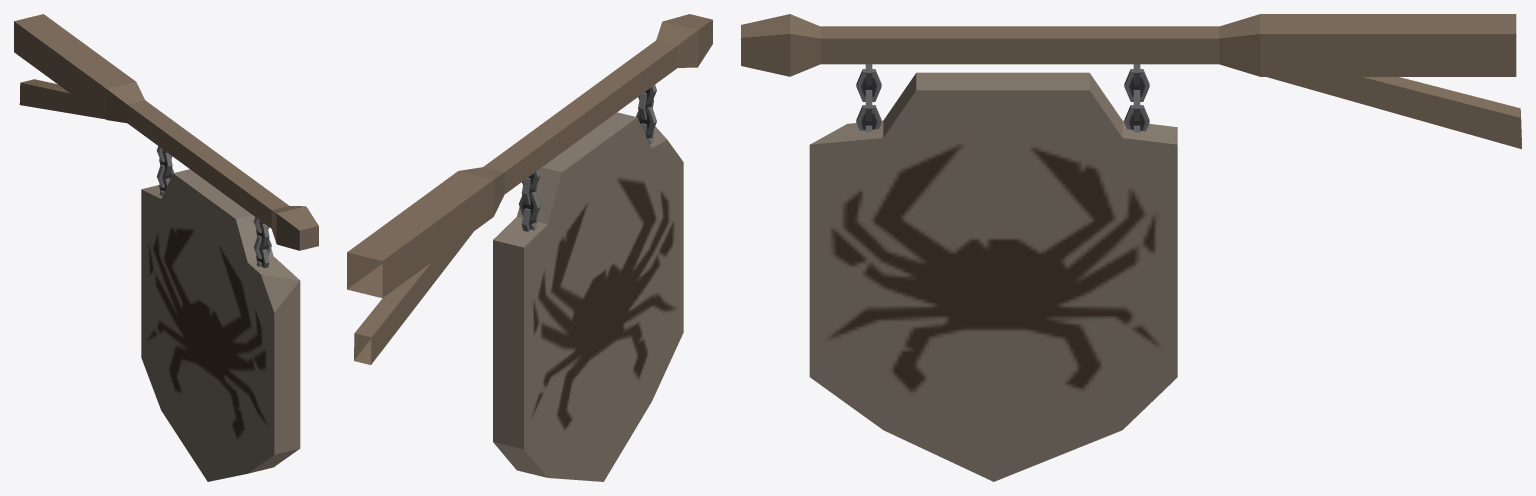
The model's file is SM_Prop_Sign_Attachment_02.glb.
3 renders of one model, left to right at view 1: azimuth 30°, elevation 25°; view 2: azimuth 150°, elevation 25°; view 3: azimuth 270°, elevation 25°, orthographic. The views are drawn at different scales.
Visible parts, largest first — view 1: SM_Prop_Sign_Attachment_02_part00; view 2: SM_Prop_Sign_Attachment_02_part00; view 3: SM_Prop_Sign_Attachment_02_part00.
Boxes of the visible parts, <box> form: SM_Prop_Sign_Attachment_02_part00: <box>14,14,318,481</box>; SM_Prop_Sign_Attachment_02_part00: <box>347,14,712,481</box>; SM_Prop_Sign_Attachment_02_part00: <box>741,14,1521,481</box>.
Size of the model in its own units: 0.1343 by 1.36 by 2.15.
1 material, 1 textured.
